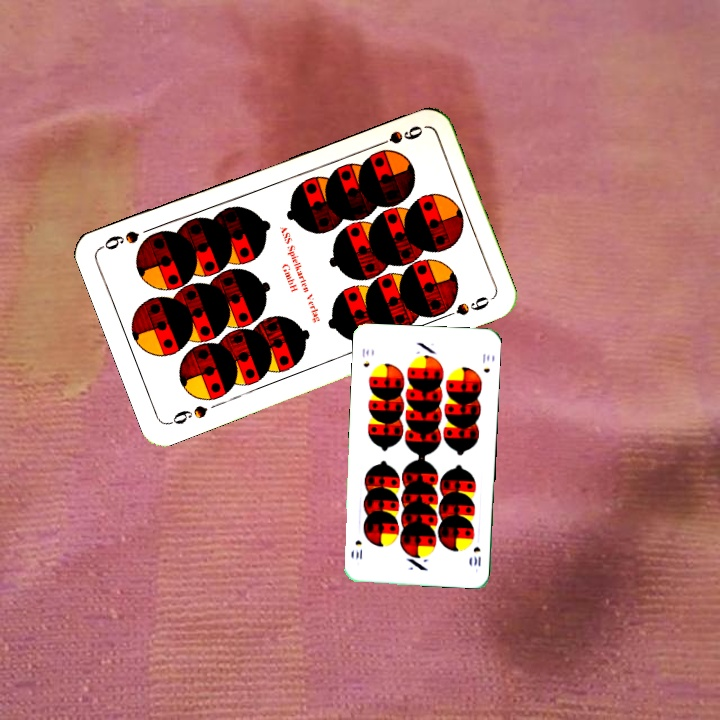S10: (469, 543, 483, 569), (358, 344, 372, 369)
S9: (369, 121, 425, 151), (165, 401, 210, 428)
